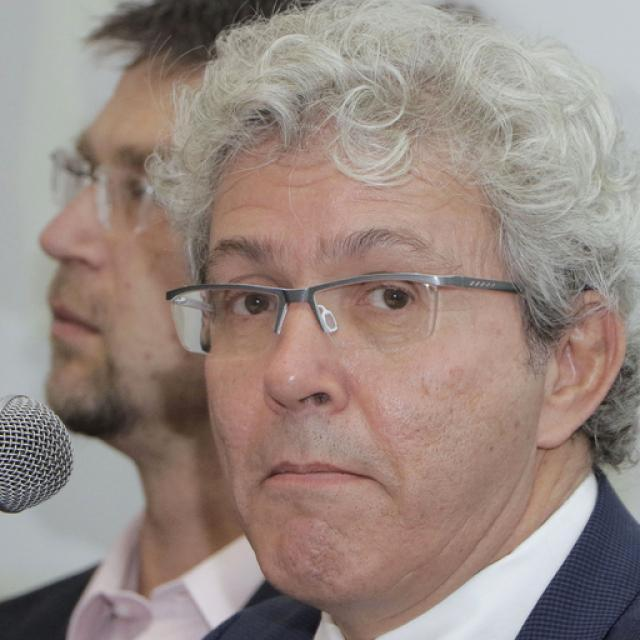neutral: (204, 113, 537, 605)
